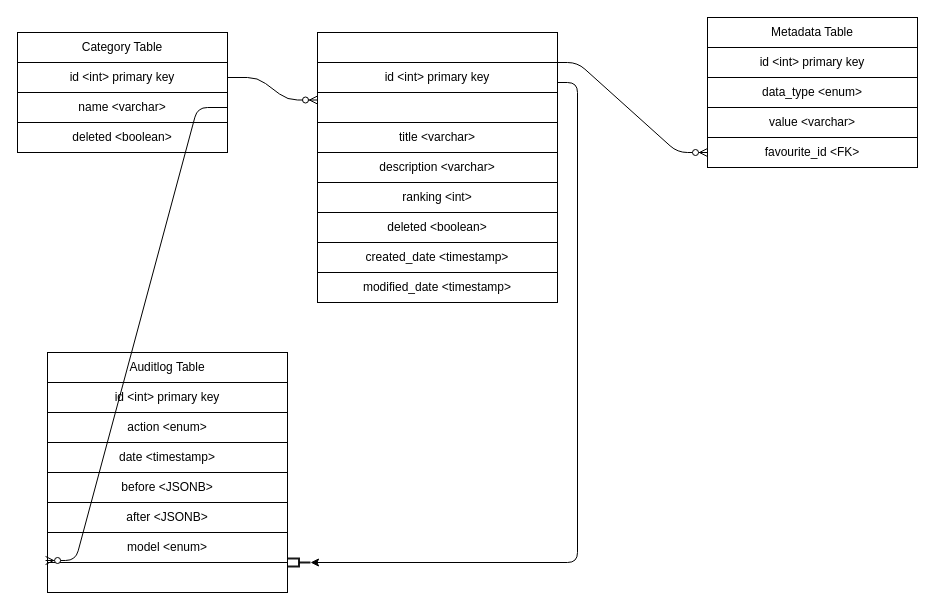
This 935x610 diagram has some shape labels left out. The shapes that lost their labels are listed below. From the top down, each one's box as (x1, y1, x2, y2) in pixels, then its label:
(316, 32, 558, 62): Favourite Table
(316, 92, 558, 122): category_id <FK>
(46, 562, 288, 592): resource_id <int>
